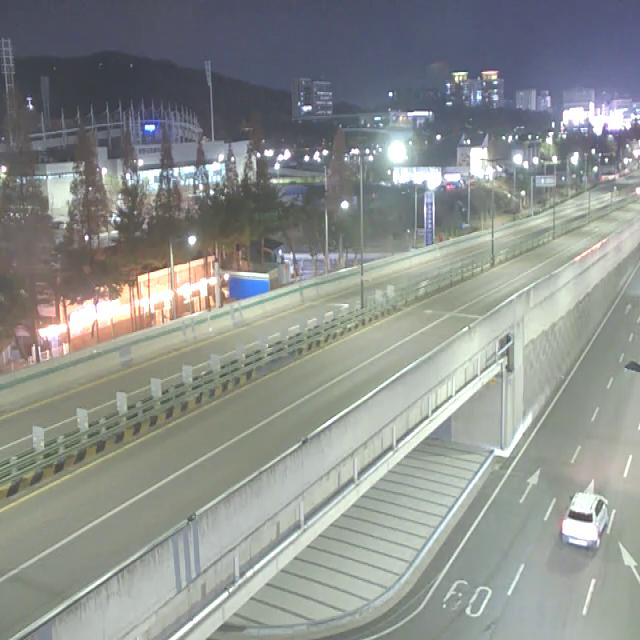Car: (560, 492, 608, 550)
